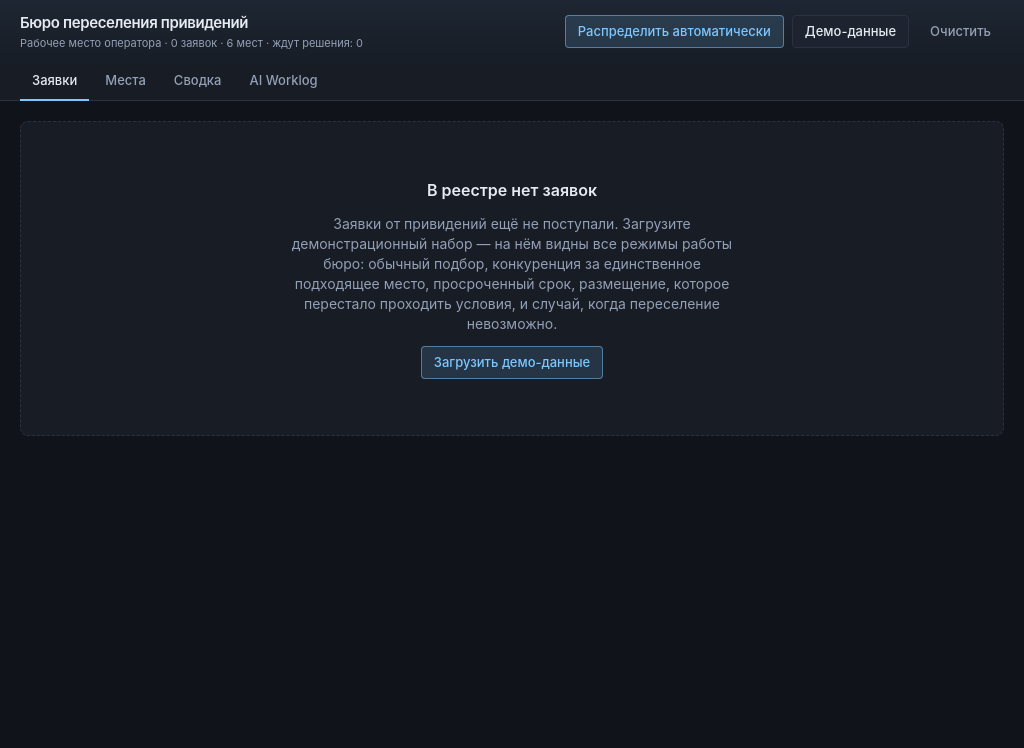
Test: пустой реестр › объясняет ситуацию и позволяет загрузить демо-данные
Expected: the text "В реестре нет заявок" is shown, [427, 178, 597, 202]
Click the button "Загрузить демо-данные".
click(512, 362)  # box [421, 346, 603, 379]
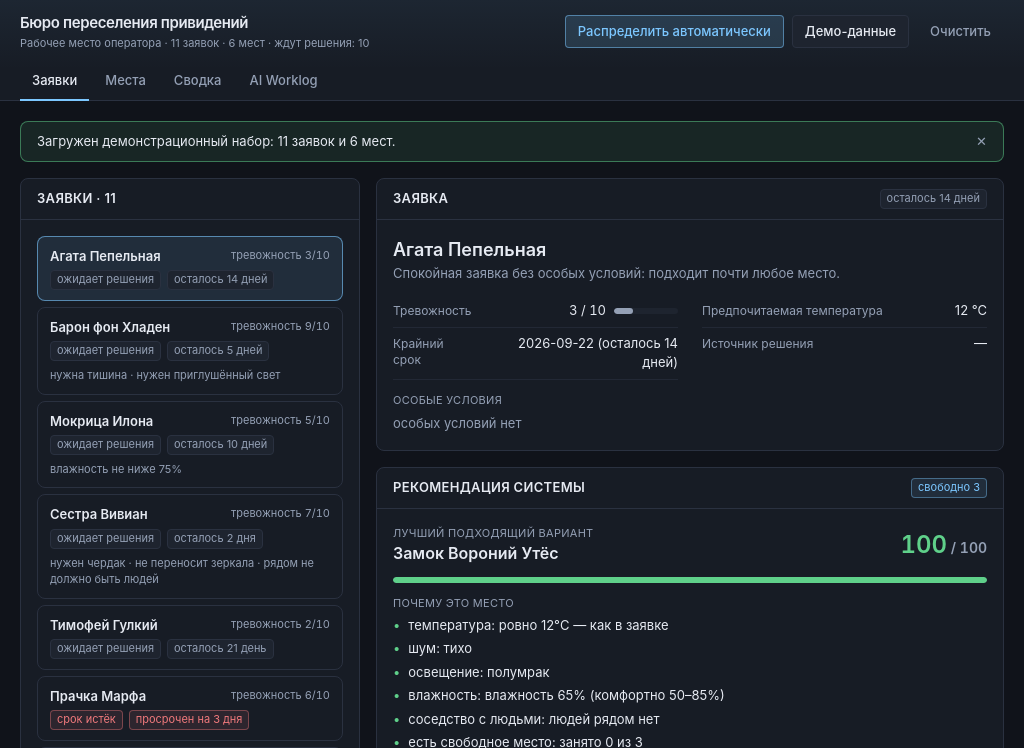
Now the button "Агата Пепельная" is shown, box [37, 236, 343, 301]
Now the text "Загружен демонстрационный набор: 11 заявок и 6 мест." is shown, box [37, 132, 396, 151]
